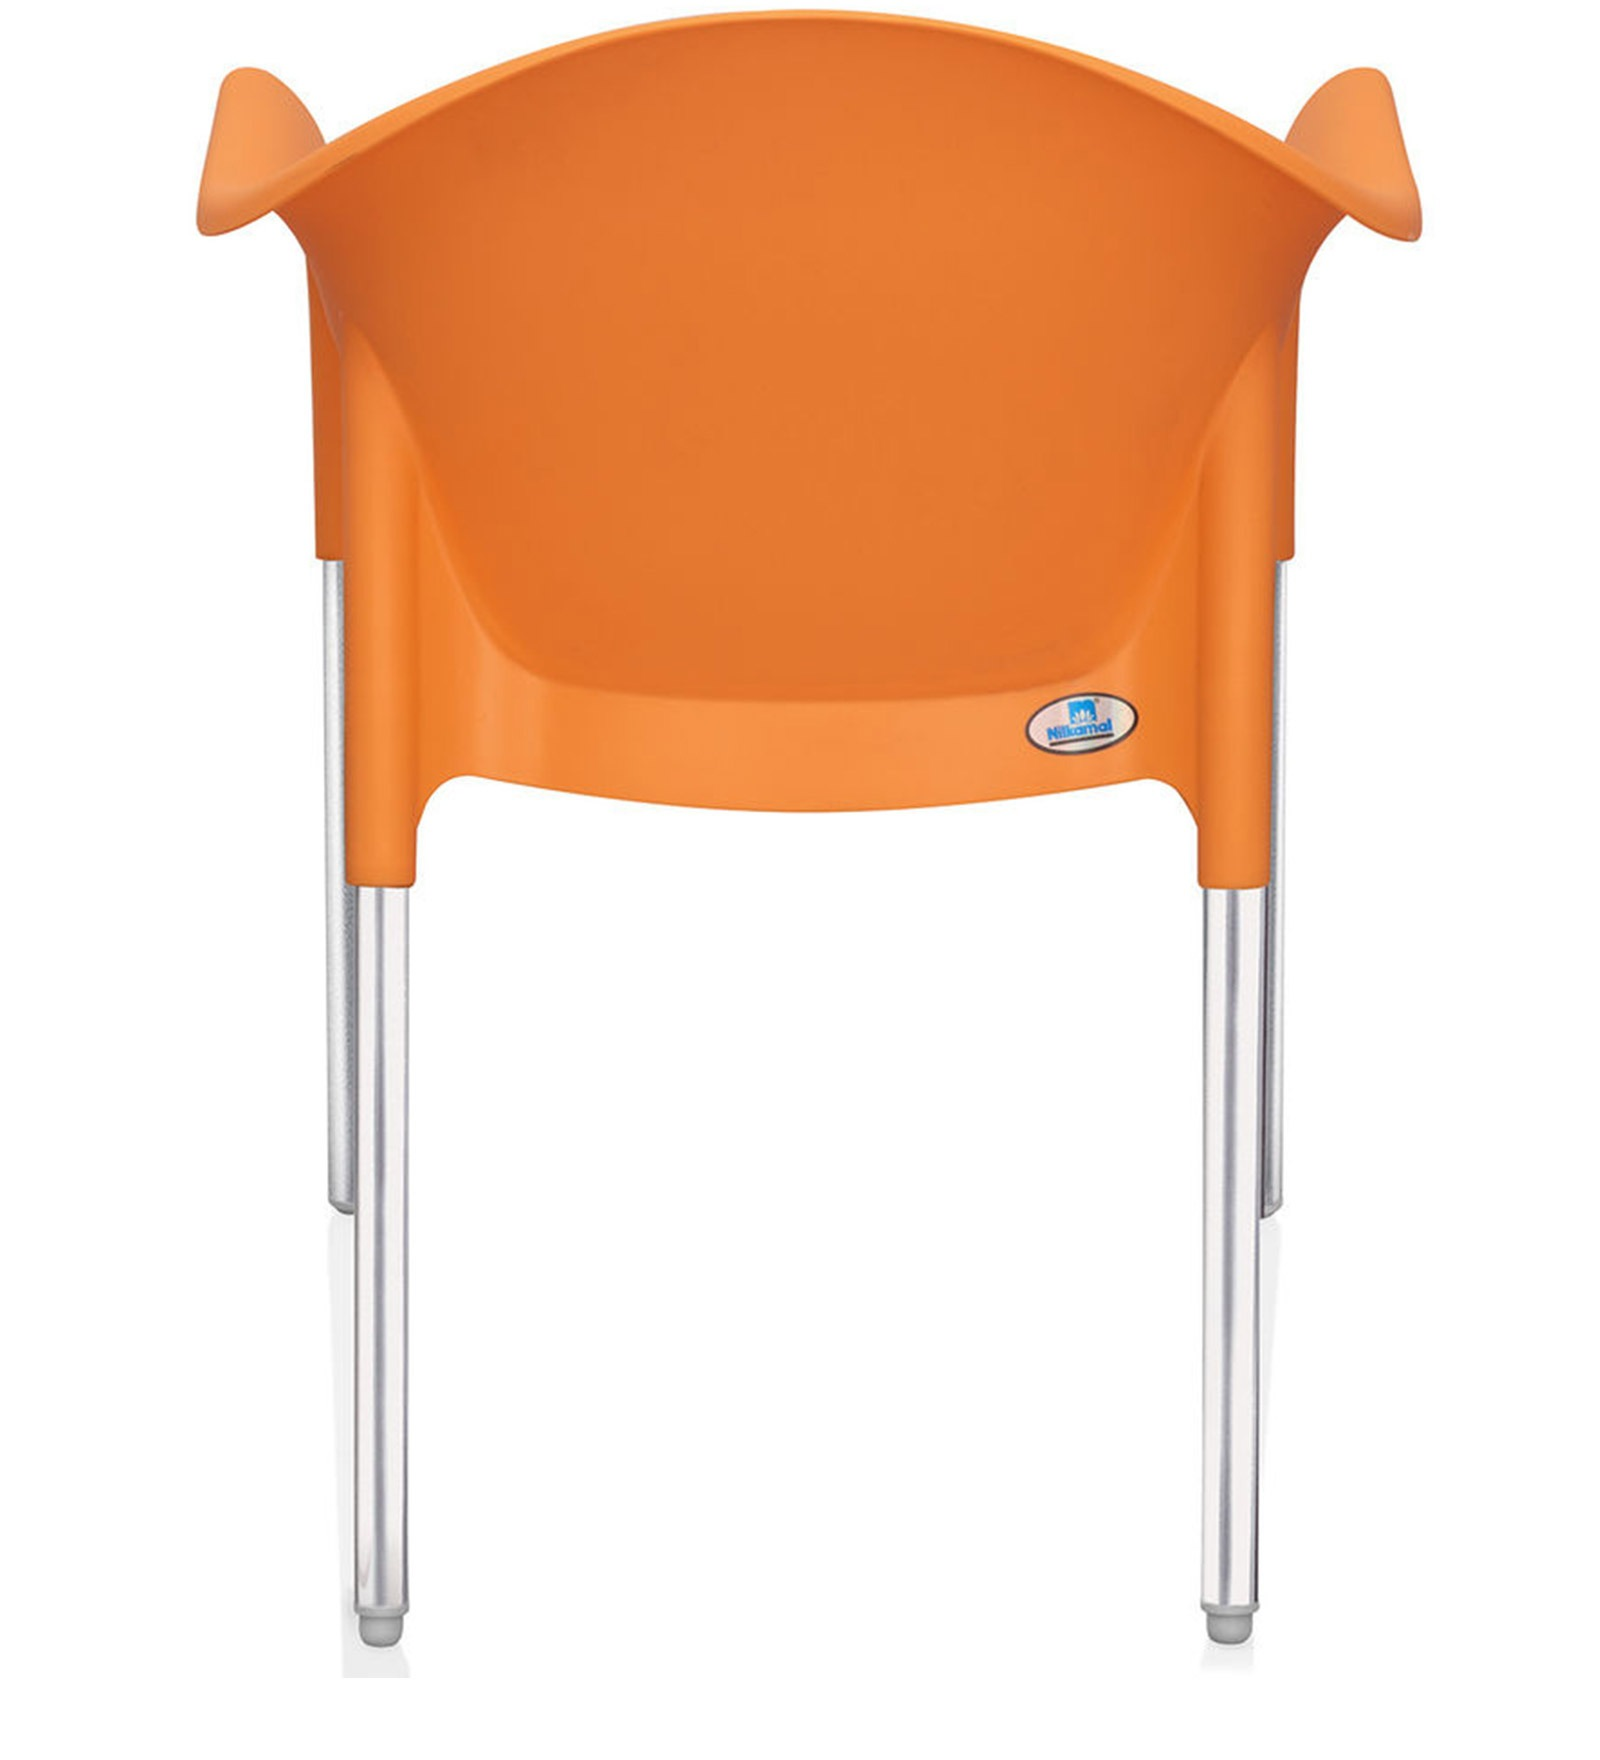Novella Series - 9 (Set of 2) Chairs in Orange Colour by Nilkamal: (185, 12, 1431, 1653)
